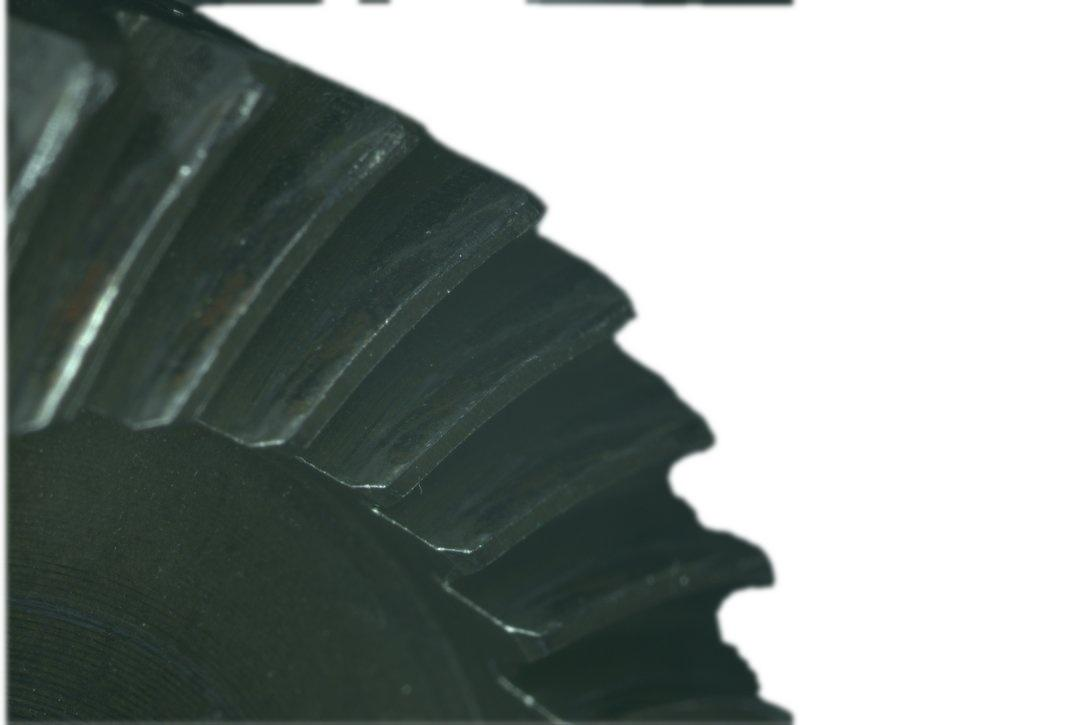defect: (168, 75, 273, 181), (324, 122, 413, 188), (453, 196, 532, 266), (535, 310, 622, 362)
